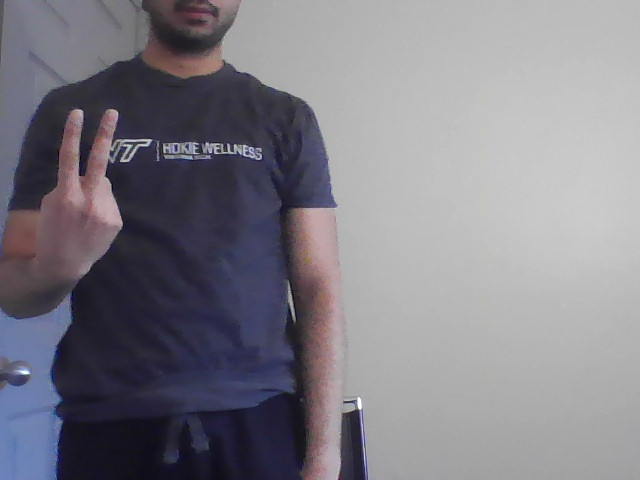two: (36, 103, 128, 270)
